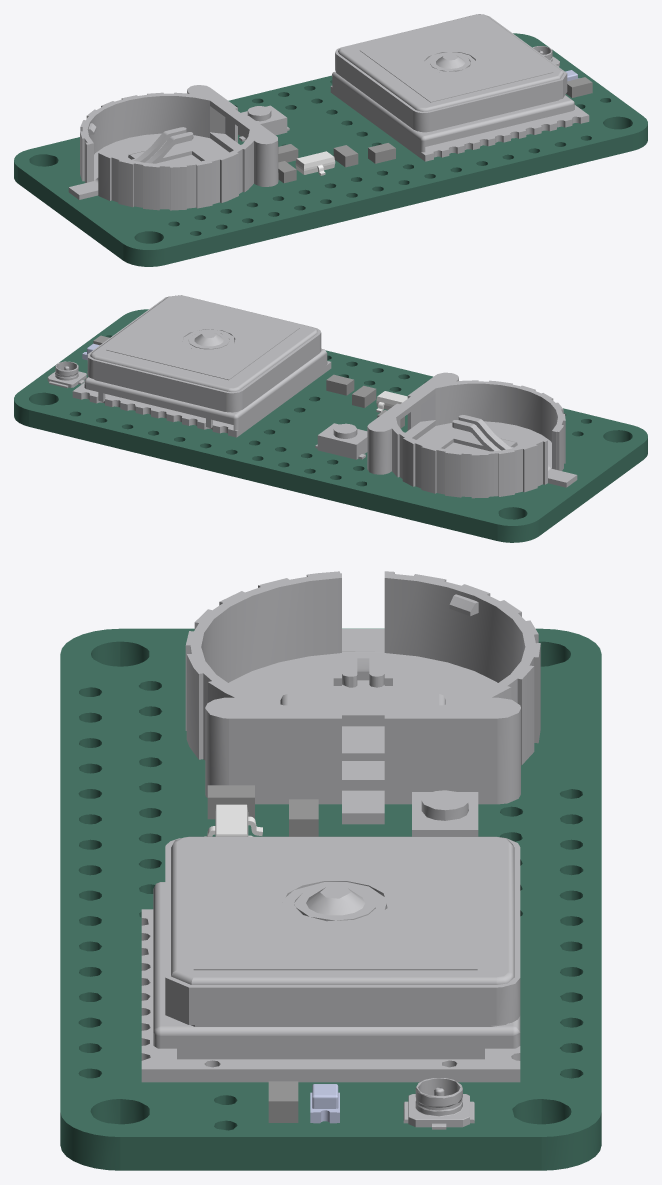
File: ada-3133.glb
3 views of the same model, one above another, from view 1: azimuth 30°, elevation 25°; view 2: azimuth 150°, elevation 25°; view 3: azimuth 270°, elevation 25° (orthographic). The views are drawn at different scales.
Parts seen in each view (by area): view 1: 0.5833333333333334_0.5833333333333334_0.5833333333333334_0.8, 0.08333333333333333_0.16666666666666666_0.16666666666666666_, 0.3333333333333333_0.3333333333333333_0.3333333333333333_0, 0.9166666666666666_0.9166666666666666_0.9166666666666666_0.8; view 2: 0.5833333333333334_0.5833333333333334_0.5833333333333334_0.8, 0.08333333333333333_0.16666666666666666_0.16666666666666666_, 0.3333333333333333_0.3333333333333333_0.3333333333333333_0, 0.9166666666666666_0.9166666666666666_0.9166666666666666_0.8; view 3: 0.5833333333333334_0.5833333333333334_0.5833333333333334_0.8, 0.08333333333333333_0.16666666666666666_0.16666666666666666_, 0.3333333333333333_0.3333333333333333_0.3333333333333333_0, 0.9166666666666666_0.9166666666666666_0.9166666666666666_0.8, 0.5833333333333334_0.6666666666666666_0.8333333333333334_0.
Part boxes in pixels (<box>): 0.5833333333333334_0.5833333333333334_0.5833333333333334_0.8: <box>68,14,589,210</box>; 0.08333333333333333_0.16666666666666666_0.16666666666666666_: <box>14,33,647,266</box>; 0.3333333333333333_0.3333333333333333_0.3333333333333333_0: <box>278,77,592,183</box>; 0.9166666666666666_0.9166666666666666_0.9166666666666666_0.8: <box>295,151,335,175</box>; 0.5833333333333334_0.5833333333333334_0.5833333333333334_0.8: <box>47,295,577,498</box>; 0.08333333333333333_0.16666666666666666_0.16666666666666666_: <box>14,309,647,542</box>; 0.3333333333333333_0.3333333333333333_0.3333333333333333_0: <box>93,335,404,428</box>; 0.9166666666666666_0.9166666666666666_0.9166666666666666_0.8: <box>376,391,407,412</box>; 0.5833333333333334_0.5833333333333334_0.5833333333333334_0.8: <box>141,571,540,1129</box>; 0.08333333333333333_0.16666666666666666_0.16666666666666666_: <box>60,628,601,1170</box>; 0.3333333333333333_0.3333333333333333_0.3333333333333333_0: <box>207,785,318,1122</box>; 0.9166666666666666_0.9166666666666666_0.9166666666666666_0.8: <box>204,804,262,836</box>; 0.5833333333333334_0.6666666666666666_0.8333333333333334_0: <box>310,1084,339,1123</box>.
Bounding box in the file's own units: 5.08 × 0.662 × 2.29.
